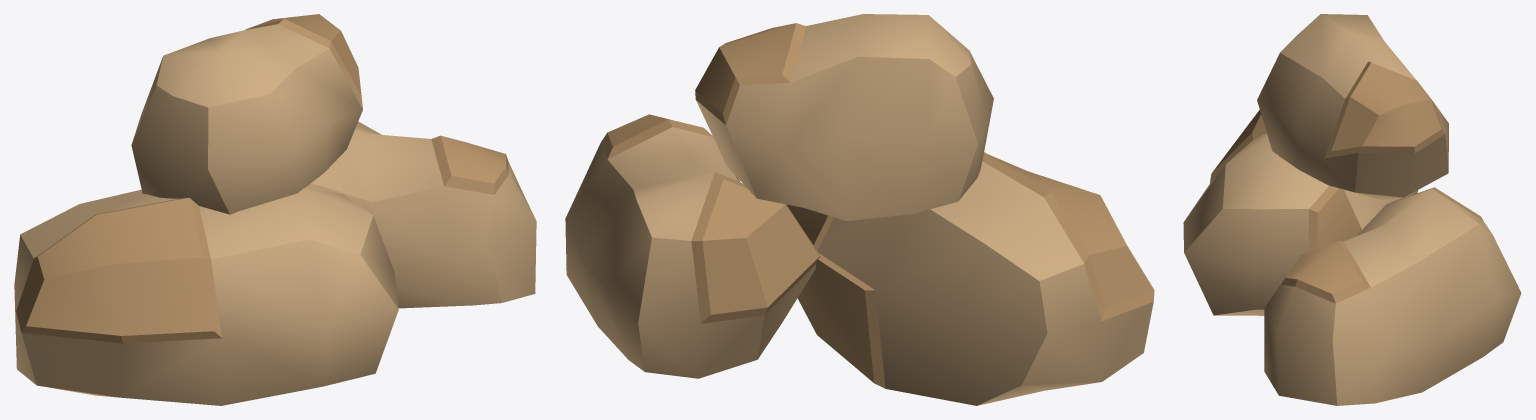
Rendered from Stone_Temple_05.fbx.
3 views of the same model, side by side, from view 1: azimuth 30°, elevation 25°; view 2: azimuth 150°, elevation 25°; view 3: azimuth 270°, elevation 25° (orthographic). The views are drawn at different scales.
Visible parts, largest first — view 1: Stone_004; view 2: Stone_004; view 3: Stone_004.
Boxes of the visible parts, box(x1,y1,x2,y2) form: Stone_004: box(14, 14, 536, 405); Stone_004: box(565, 14, 1154, 405); Stone_004: box(1183, 14, 1521, 405).
Size of the model in its own units: 164 by 95.87 by 105.
Materials: 1 (1 with a texture image).
